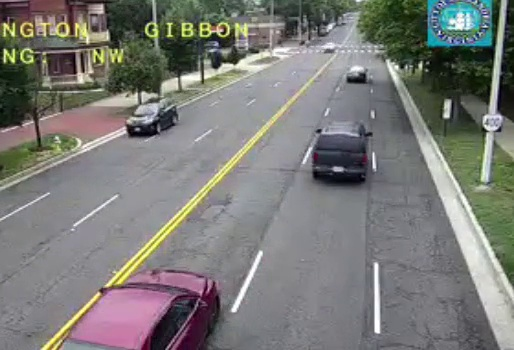car: (57, 268, 219, 350), (313, 122, 367, 177), (345, 66, 366, 83)
